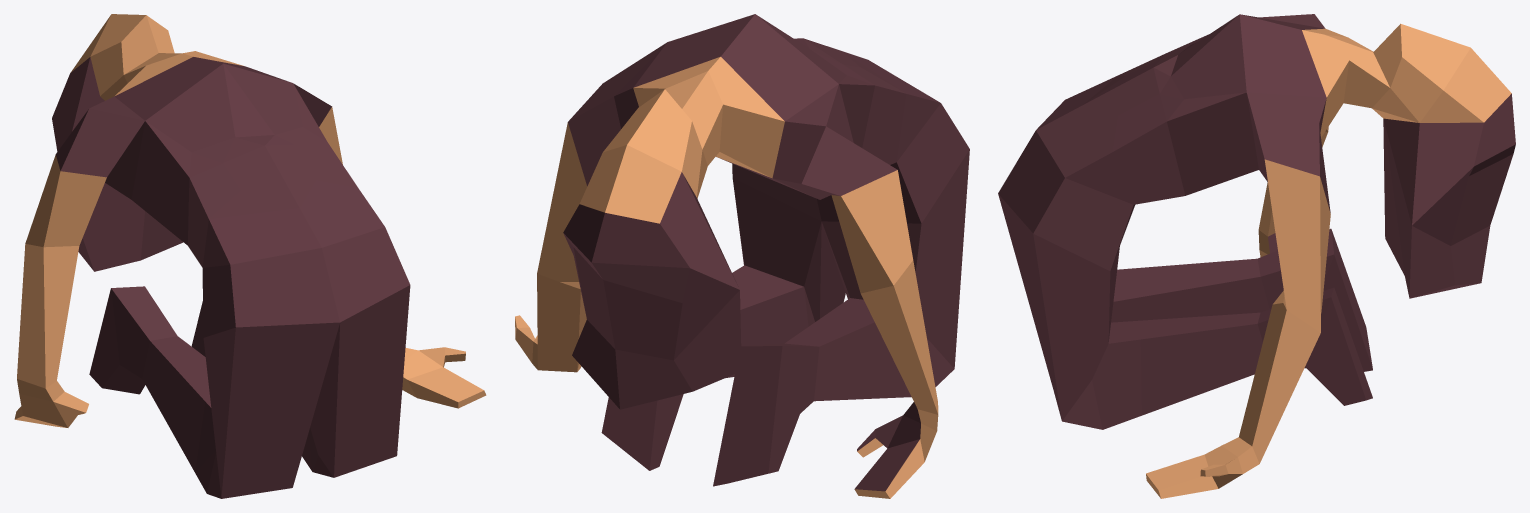
The model's file is woman-casual-pants-dead-b.fbx.
3 renders of one model, left to right at view 1: azimuth 30°, elevation 25°; view 2: azimuth 150°, elevation 25°; view 3: azimuth 270°, elevation 25°, orthographic. The views are drawn at different scales.
Visible parts, largest first — view 1: woman-casual-pants-dead-b; view 2: woman-casual-pants-dead-b; view 3: woman-casual-pants-dead-b.
Part boxes in pixels (left/top/right/bottom): woman-casual-pants-dead-b: left=14, top=14, right=486, bottom=498; woman-casual-pants-dead-b: left=515, top=14, right=969, bottom=498; woman-casual-pants-dead-b: left=998, top=14, right=1515, bottom=498.
Size of the model in its own units: 0.8361 by 0.7086 by 0.8868.
